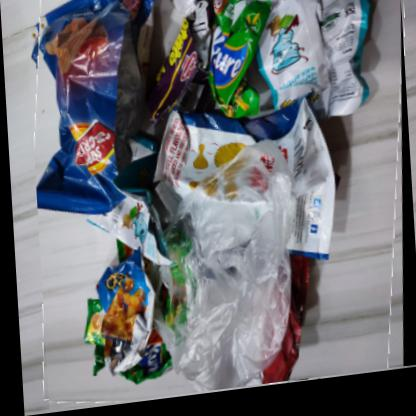Garbage: (26, 1, 416, 414)
